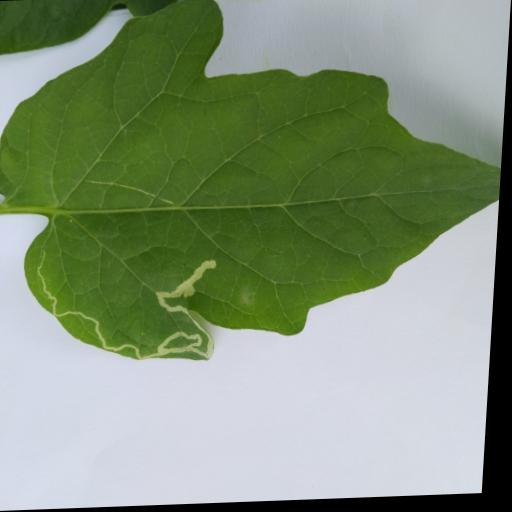Leaf_Miner: (0, 0, 512, 372)
